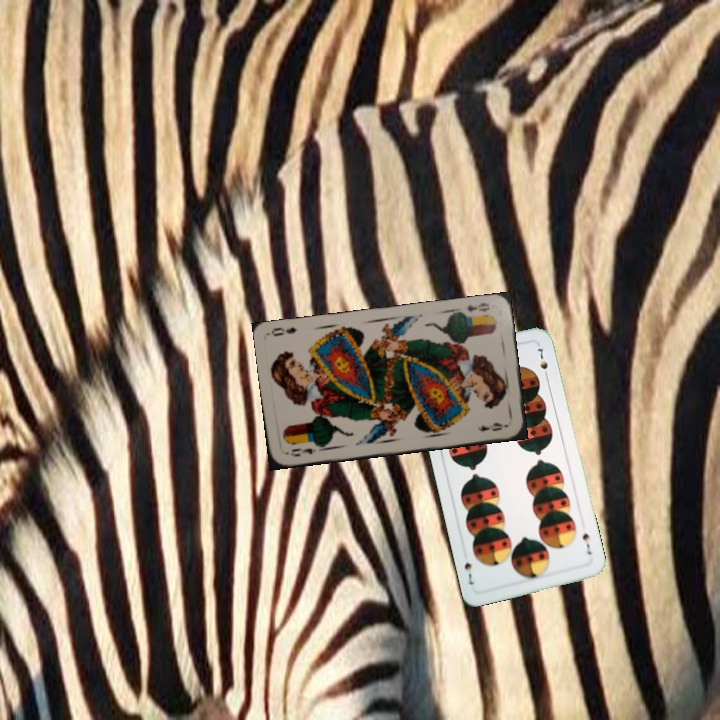EO: (286, 444, 319, 459), (464, 298, 492, 315)
S7: (578, 528, 594, 557)
